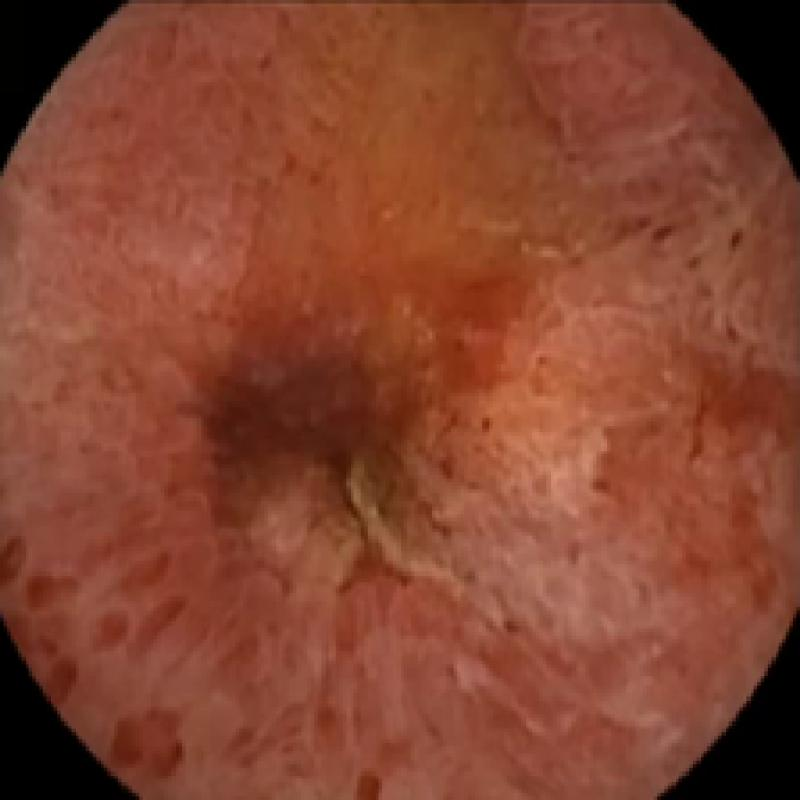bleeding: (118, 254, 564, 550), (2, 554, 202, 784), (685, 347, 800, 606)
